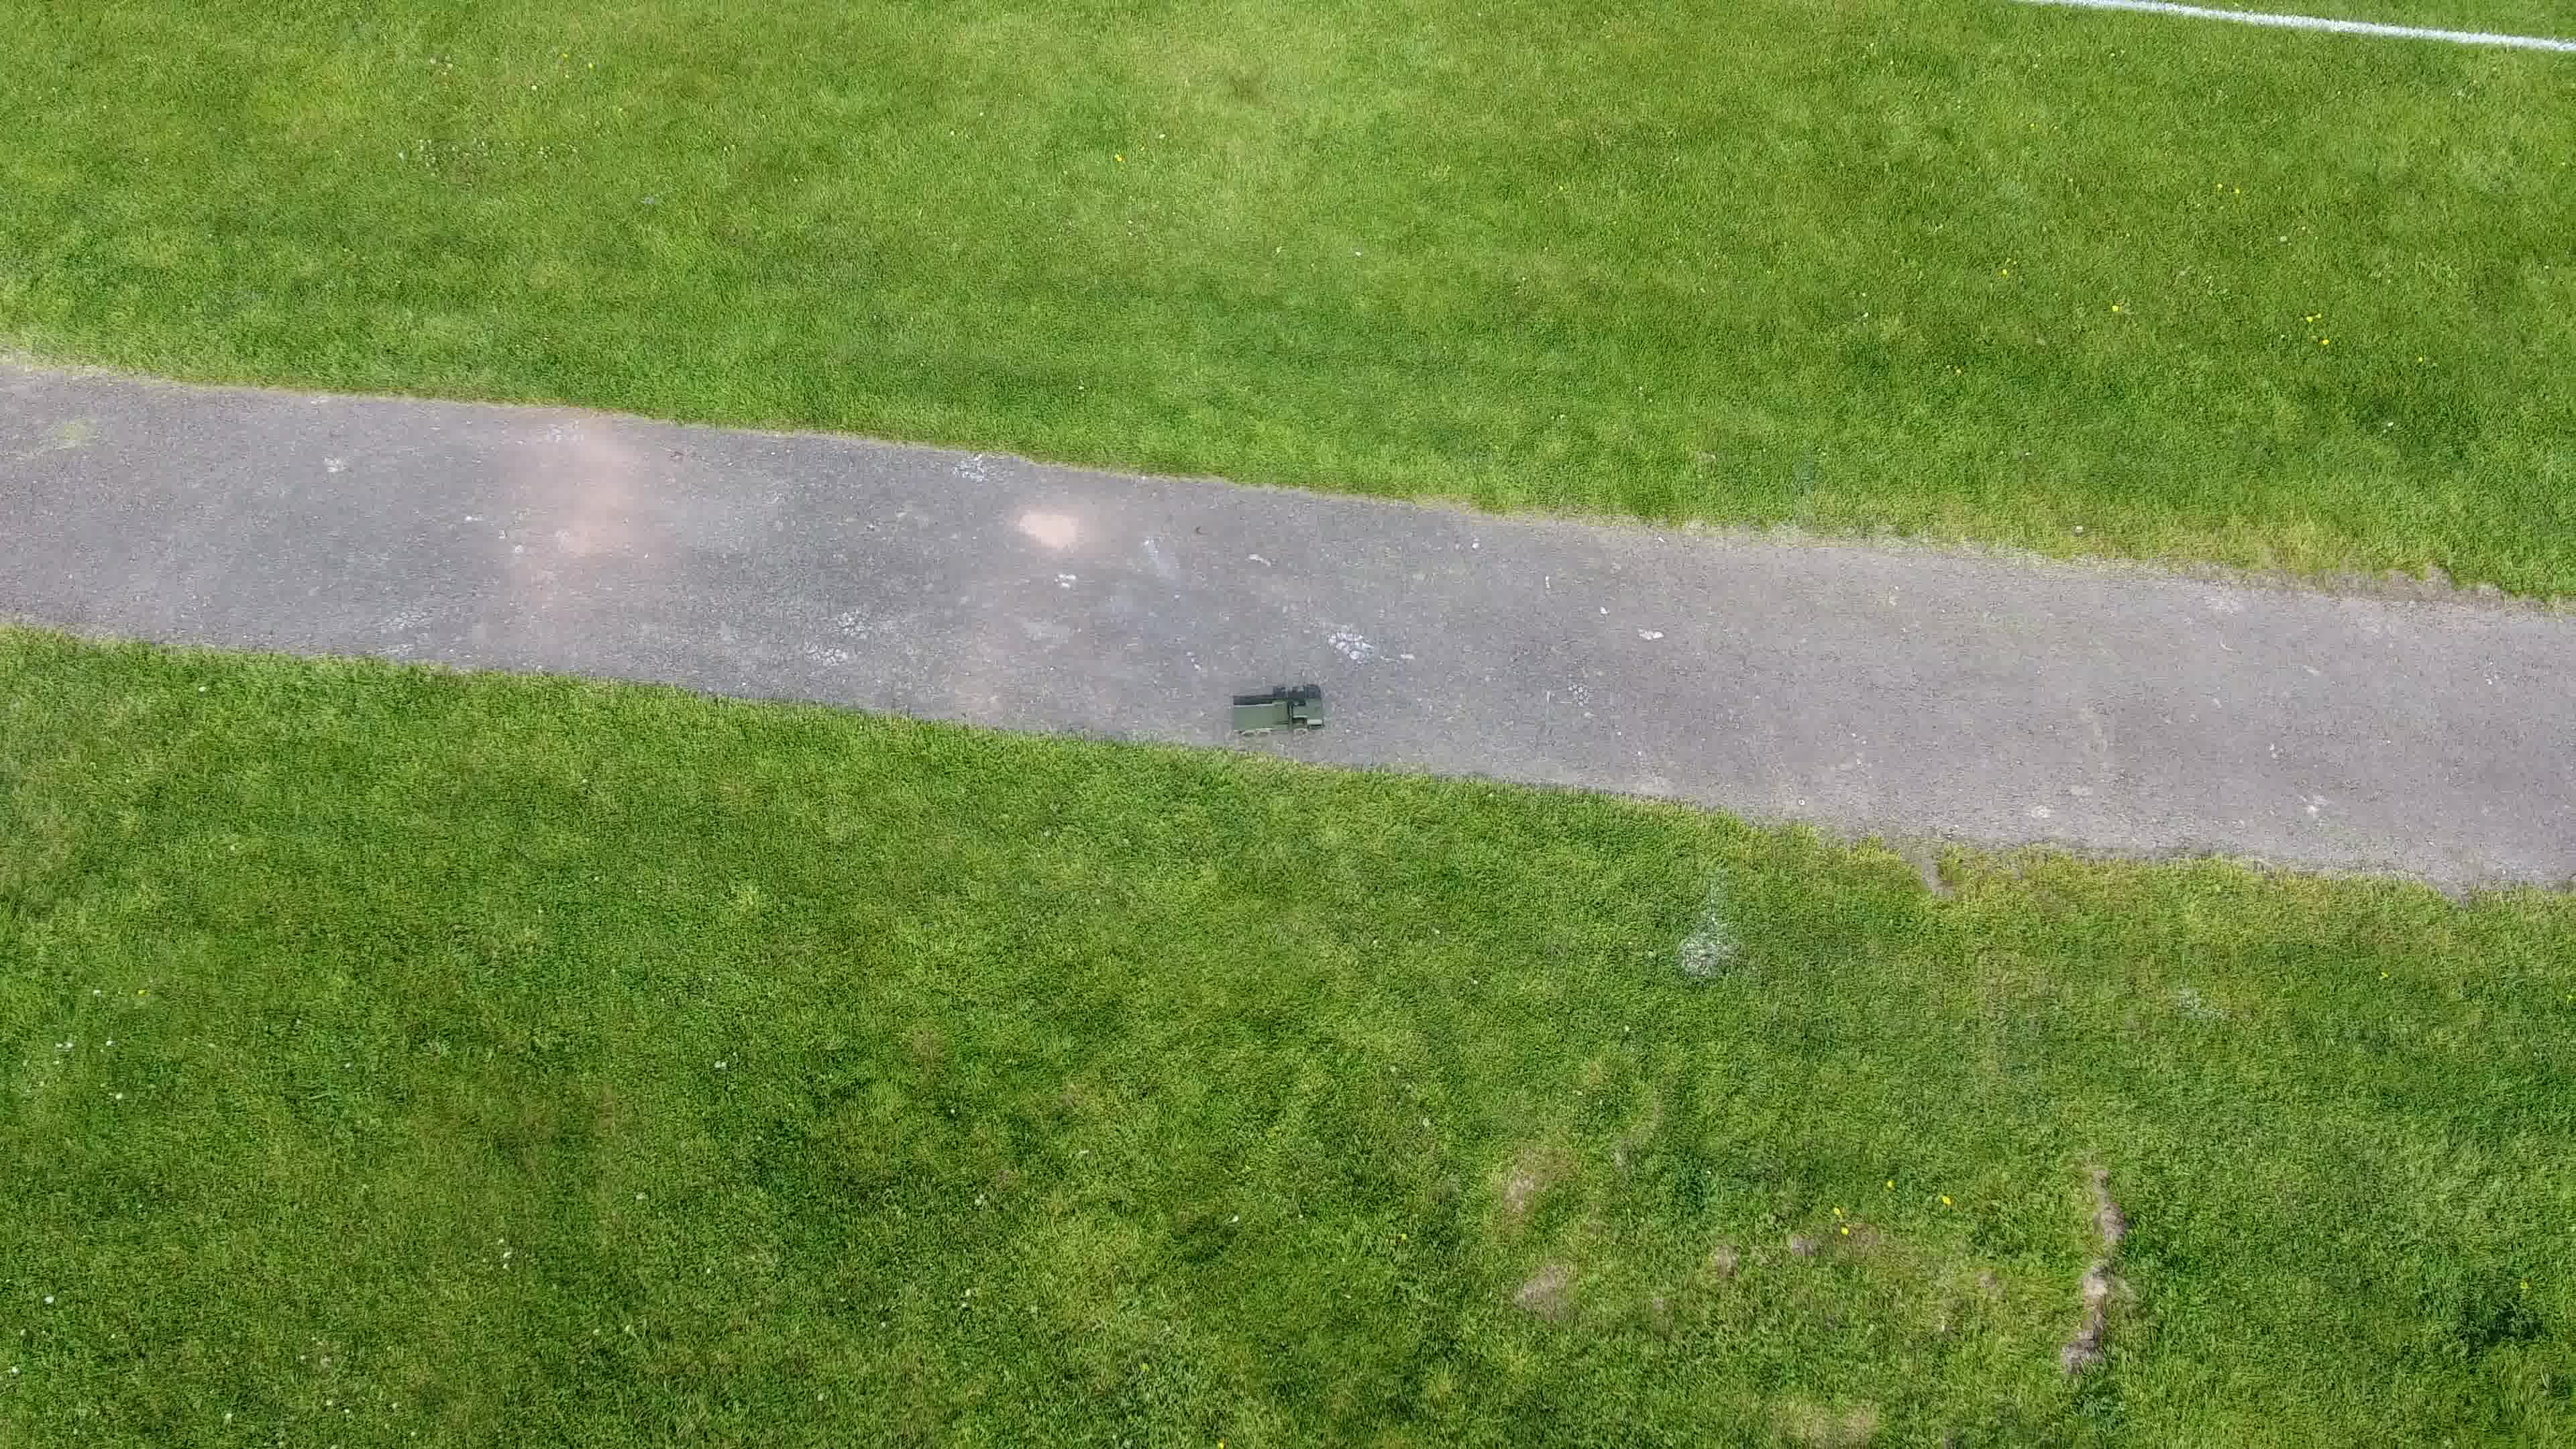transporter9: (1224, 690, 1330, 740)
